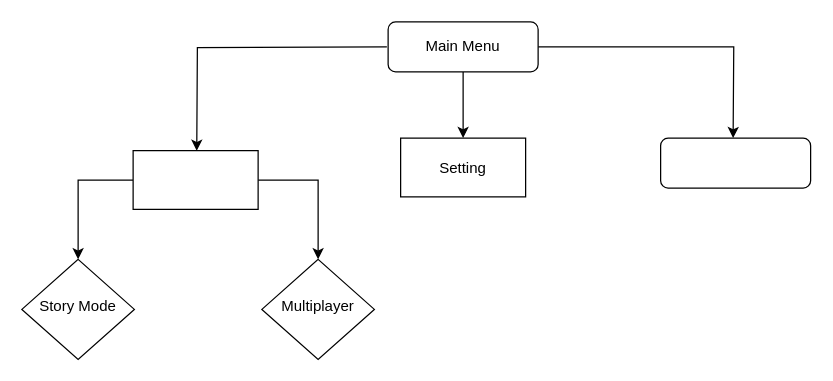
The diagram is 833 pixels wide and 381 high, and some of its shapes have lost their labels. Here are the shapes that lost their labels. From the top down, the centre of each, then its label:
pixel 195 179: Start
pixel 735 162: Exit
